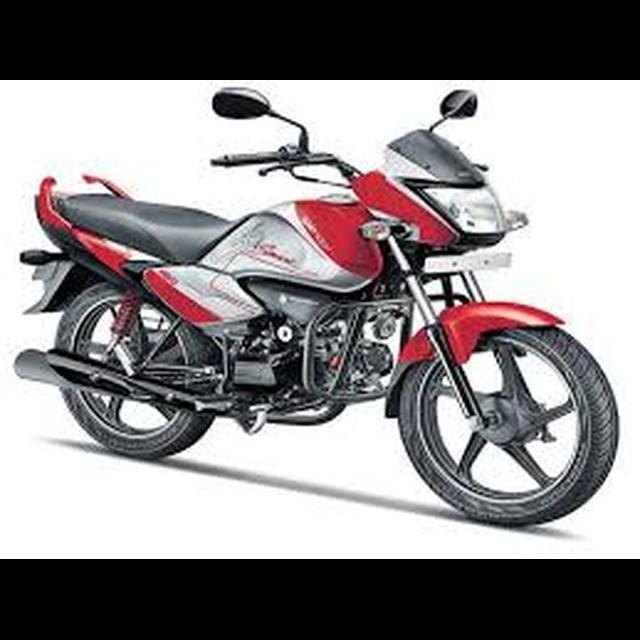motorcycle: (11, 83, 625, 534)
